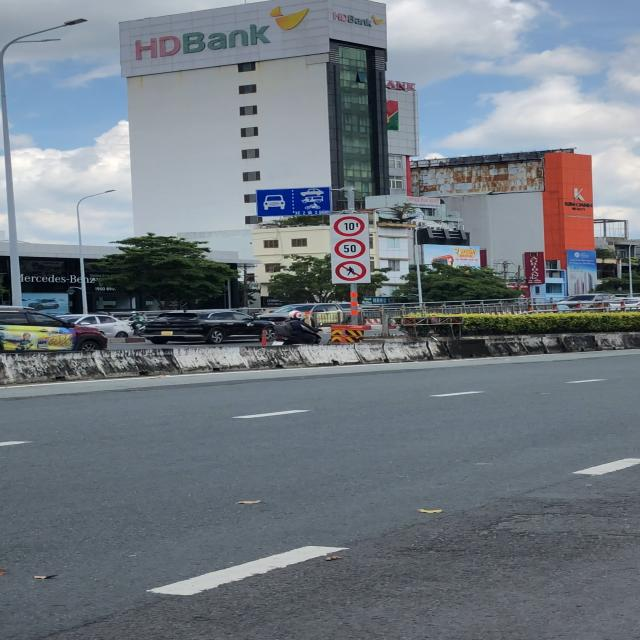Bien bao cam nguoi di bo: (334, 259, 372, 283)
Bien bao toc do toi da cho phep: (334, 238, 369, 259)
